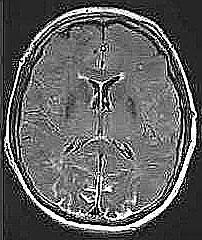Normal_Brain: (1, 3, 202, 240)
